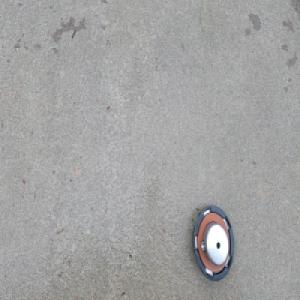FuelCap: (190, 201, 235, 283)
